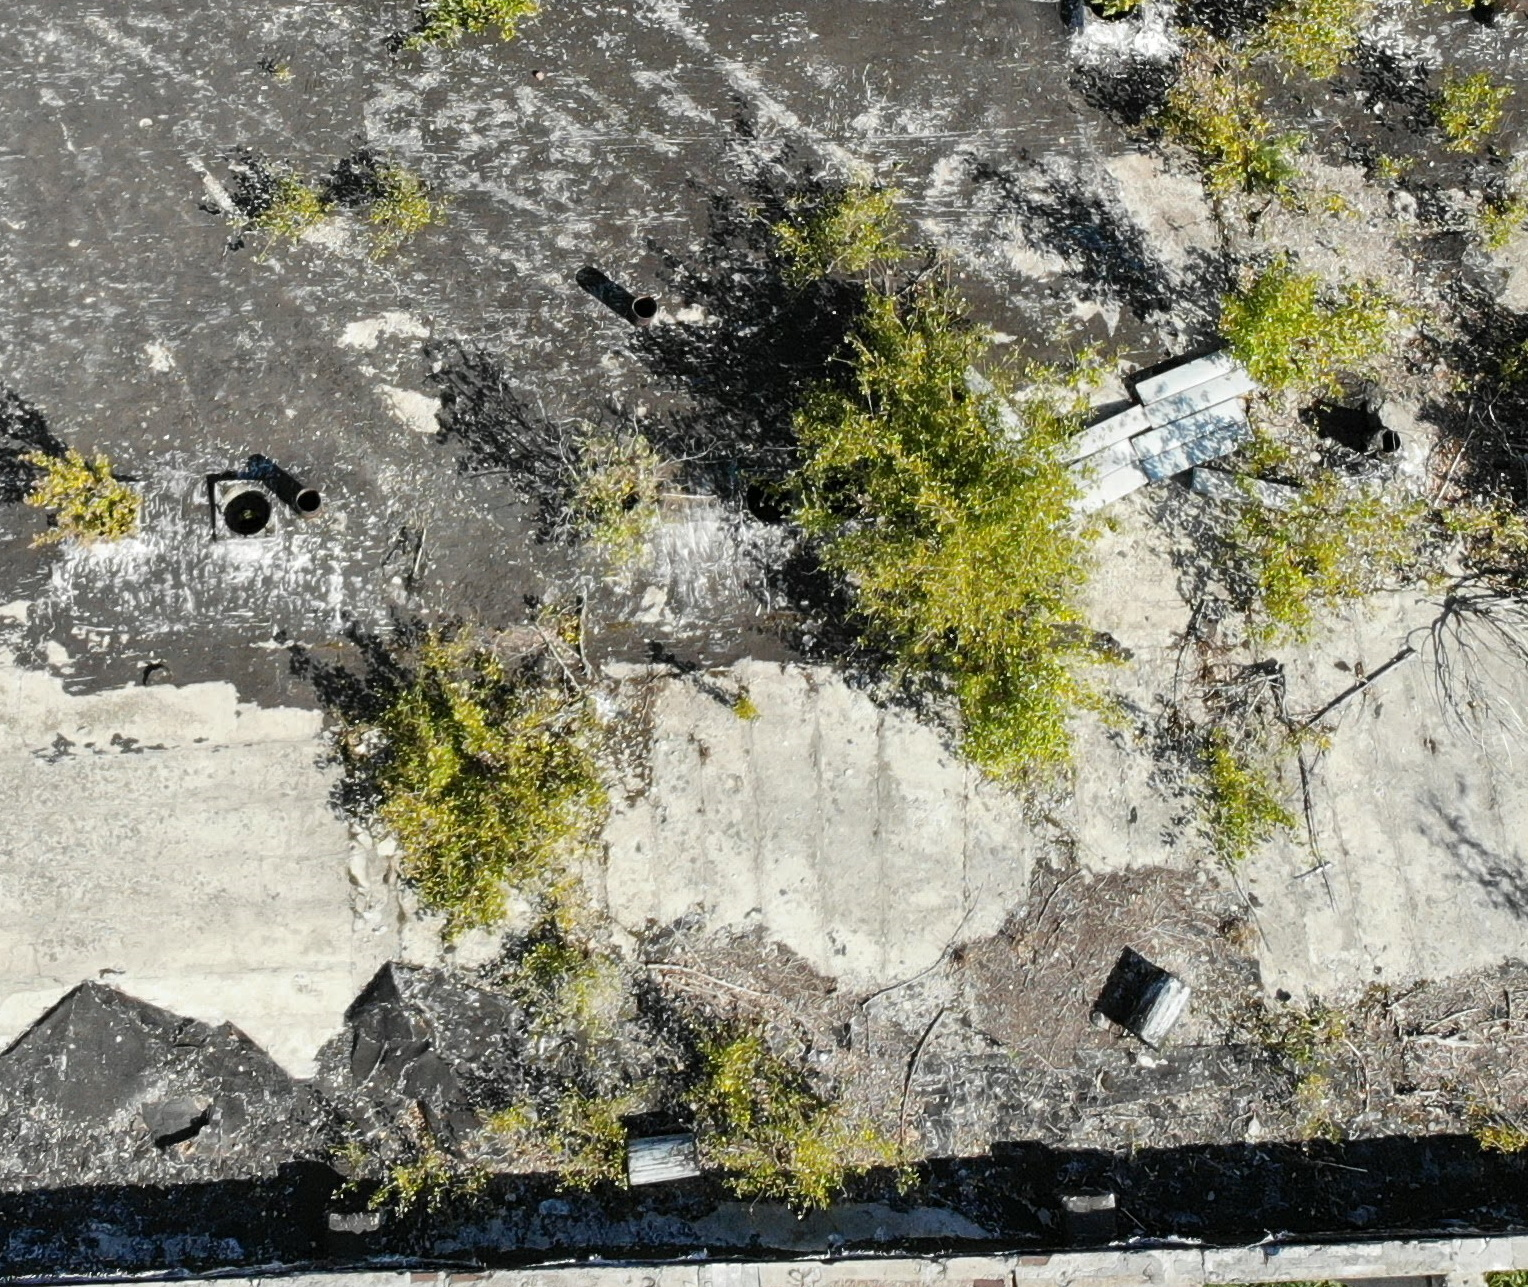tree: (742, 179, 1141, 798), (290, 589, 659, 958), (1199, 426, 1451, 665), (1130, 49, 1375, 245), (700, 1009, 915, 1212), (1219, 229, 1405, 424), (14, 432, 189, 587), (486, 1072, 657, 1208), (537, 421, 671, 590), (331, 135, 477, 273), (333, 1097, 500, 1213), (1188, 730, 1317, 873), (514, 910, 631, 1062), (1428, 66, 1522, 186), (251, 153, 337, 276)
